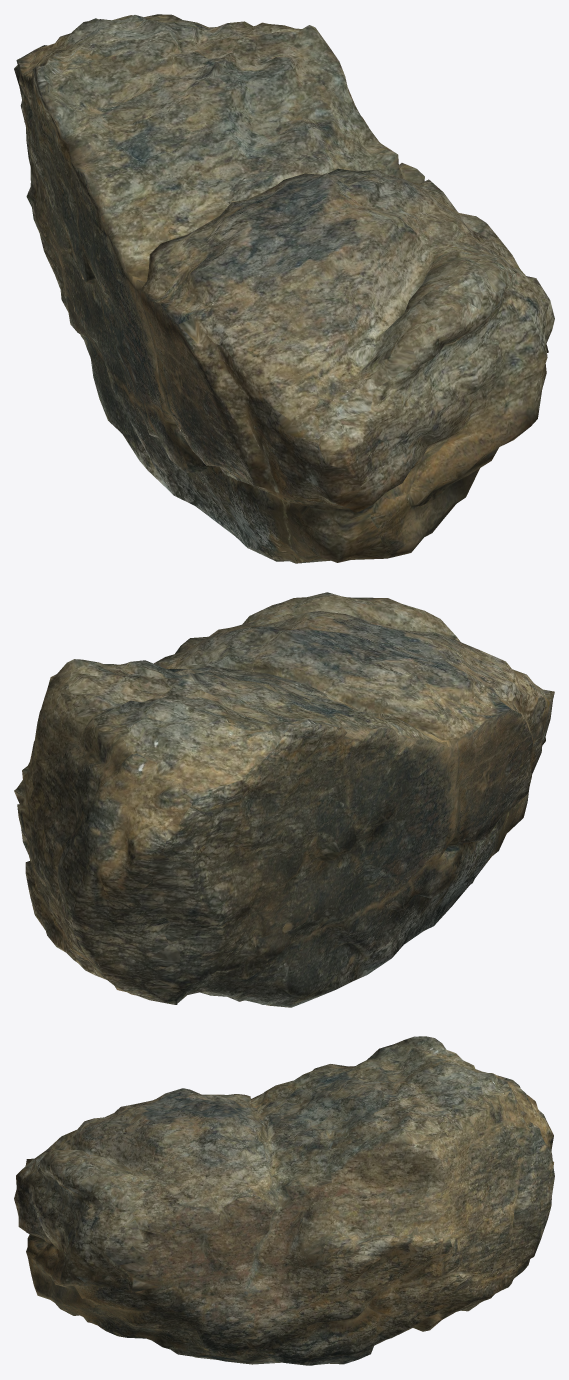
File: namaqualand_boulder_06.glb
3 views of the same model, one above another, from view 1: azimuth 30°, elevation 25°; view 2: azimuth 150°, elevation 25°; view 3: azimuth 270°, elevation 25° (orthographic). The views are drawn at different scales.
Visible parts, largest first — view 1: namaqualand_boulder_06; view 2: namaqualand_boulder_06; view 3: namaqualand_boulder_06.
Part boxes in pixels (box(x1,y1,x2,y2)): namaqualand_boulder_06: box(14, 14, 554, 563); namaqualand_boulder_06: box(14, 592, 554, 1007); namaqualand_boulder_06: box(14, 1036, 554, 1365).
Bounding box in the file's own units: 0.6743 × 0.6494 × 1.21.
1 material, 1 textured.
